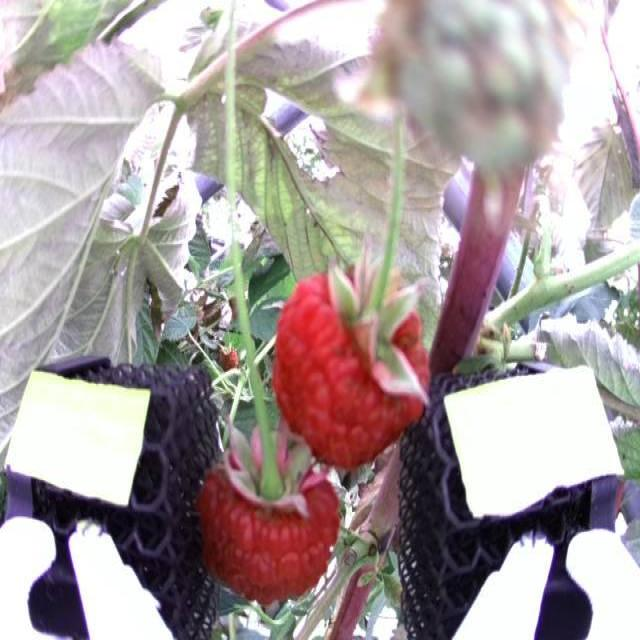Riped berries: (276, 256, 433, 462), (196, 448, 344, 596)
